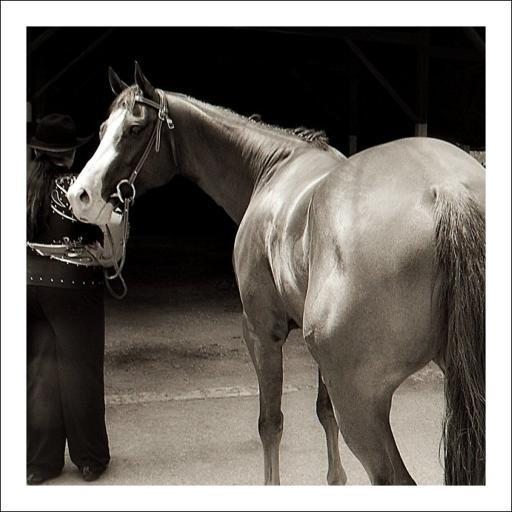horse: (64, 61, 486, 485)
